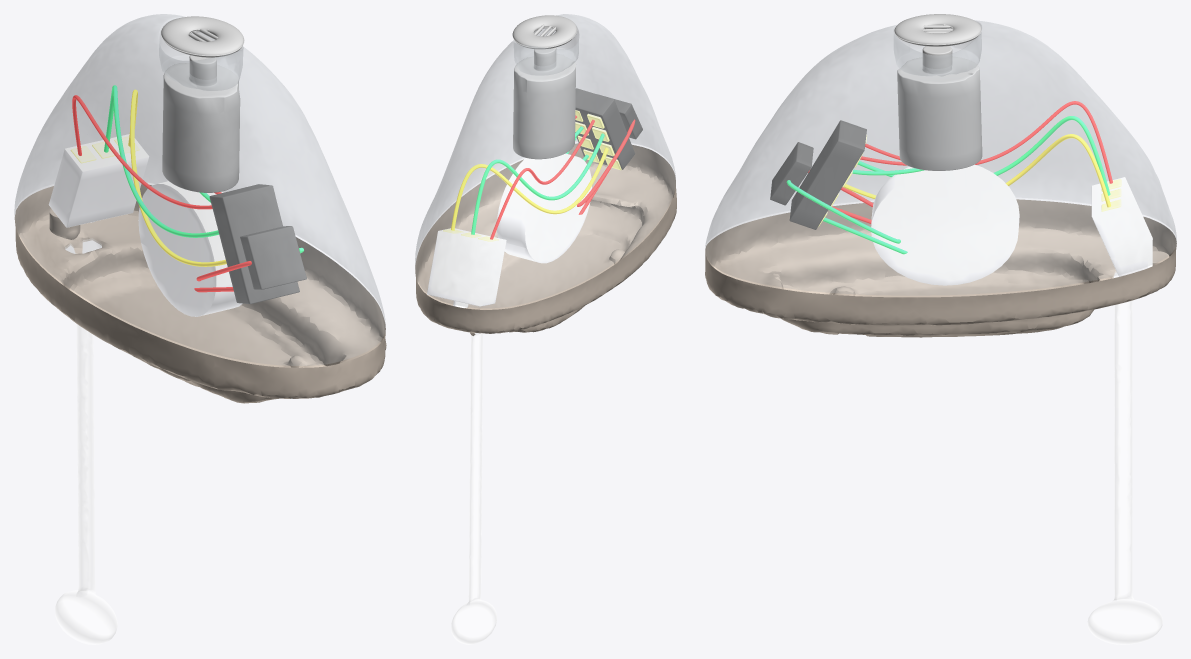
The model's file is noya_hero.glb.
3 views of the same model, side by side, from view 1: azimuth 30°, elevation 25°; view 2: azimuth 150°, elevation 25°; view 3: azimuth 270°, elevation 25° (orthographic). The views are drawn at different scales.
Parts seen in each view (by area): view 1: IIC_SHELL, FACEPLATE, RECIVER_MAIN, REMOVE WIRE, BATTERY, DSP_MAIN, MIC_MAIN, NBC_MAIN, BATTERY.001, MESH SPEAKER, MIC_MAIN.001, WIRE_MIC_2 (+2 smaller); view 2: IIC_SHELL, FACEPLATE, RECIVER_MAIN, BATTERY, REMOVE WIRE, MIC_MAIN, DSP_MAIN, BATTERY.001, MESH SPEAKER, WIRE_MIC_3, WIRE_MIC_2, MIC_MAIN.001 (+3 smaller); view 3: IIC_SHELL, FACEPLATE, BATTERY, RECIVER_MAIN, REMOVE WIRE, BATTERY.001, DSP_MAIN, MIC_MAIN, MESH SPEAKER, NBC_MAIN, WIRE_MIC_1, WIRE_MIC_2 (+1 smaller).
Part boxes in pixels (x1=…): IIC_SHELL: x1=14, y1=14, x2=385, y2=365; FACEPLATE: x1=14, y1=183, x2=386, y2=403; RECIVER_MAIN: x1=162, y1=55, x2=240, y2=192; REMOVE WIRE: x1=55, y1=238, x2=117, y2=644; BATTERY: x1=138, y1=181, x2=232, y2=293; DSP_MAIN: x1=209, y1=184, x2=299, y2=304; MIC_MAIN: x1=51, y1=134, x2=149, y2=222; NBC_MAIN: x1=240, y1=226, x2=306, y2=289; BATTERY.001: x1=141, y1=243, x2=242, y2=316; MESH SPEAKER: x1=161, y1=16, x2=244, y2=57; MIC_MAIN.001: x1=48, y1=197, x2=136, y2=227; WIRE_MIC_2: x1=104, y1=85, x2=219, y2=237; IIC_SHELL: x1=415, y1=14, x2=675, y2=307; FACEPLATE: x1=415, y1=143, x2=676, y2=335; RECIVER_MAIN: x1=513, y1=47, x2=575, y2=159; BATTERY: x1=497, y1=153, x2=591, y2=248; REMOVE WIRE: x1=451, y1=333, x2=496, y2=644; MIC_MAIN: x1=428, y1=228, x2=506, y2=307; DSP_MAIN: x1=575, y1=88, x2=635, y2=169; BATTERY.001: x1=504, y1=202, x2=590, y2=263; MESH SPEAKER: x1=512, y1=15, x2=577, y2=49; WIRE_MIC_3: x1=451, y1=147, x2=608, y2=230; WIRE_MIC_2: x1=471, y1=133, x2=604, y2=234; MIC_MAIN.001: x1=427, y1=286, x2=498, y2=306; IIC_SHELL: x1=705, y1=20, x2=1176, y2=295; FACEPLATE: x1=705, y1=199, x2=1176, y2=337; BATTERY: x1=871, y1=164, x2=1019, y2=249; RECIVER_MAIN: x1=897, y1=46, x2=982, y2=170; REMOVE WIRE: x1=1087, y1=271, x2=1162, y2=644; BATTERY.001: x1=874, y1=244, x2=1013, y2=285; DSP_MAIN: x1=789, y1=120, x2=866, y2=229; MIC_MAIN: x1=1091, y1=177, x2=1149, y2=260; MESH SPEAKER: x1=894, y1=14, x2=981, y2=46; NBC_MAIN: x1=770, y1=142, x2=813, y2=205; WIRE_MIC_1: x1=865, y1=101, x2=1112, y2=183; WIRE_MIC_2: x1=857, y1=116, x2=1110, y2=195.
Bounding box in the file's own units: 50.69 × 145 × 99.81.
